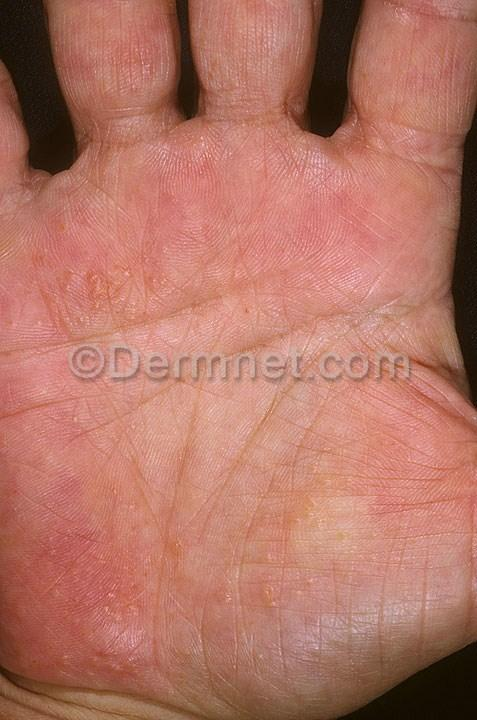Eczema: (65, 149, 428, 339), (0, 381, 224, 673), (231, 416, 437, 665), (67, 0, 195, 144), (385, 0, 475, 140), (221, 0, 313, 108), (426, 380, 477, 561)
